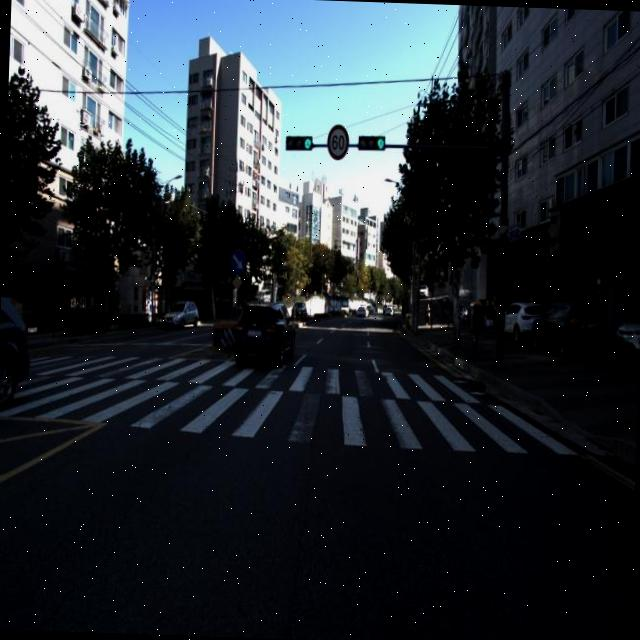crosswalk: (0, 353, 577, 455)
